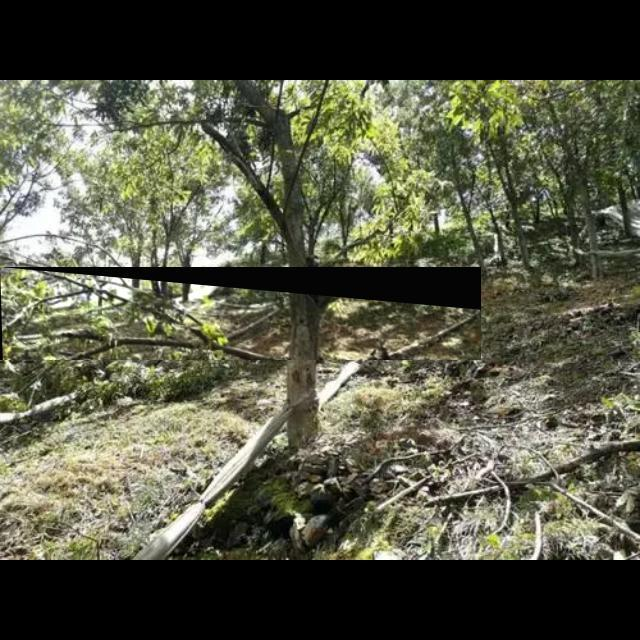fallen_tree: (0, 267, 482, 361)
